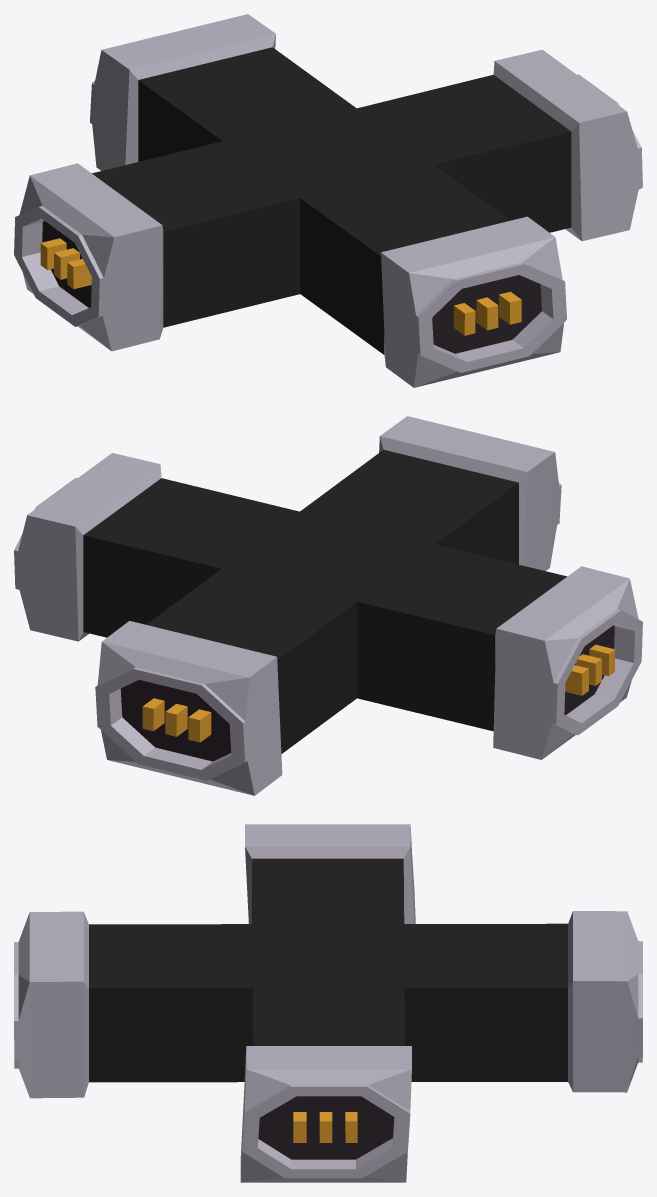
The model's file is cable +.fbx.
3 views of the same model, one above another, from view 1: azimuth 30°, elevation 25°; view 2: azimuth 150°, elevation 25°; view 3: azimuth 270°, elevation 25° (orthographic). The views are drawn at different scales.
Parts seen in each view (by area): view 1: Cable L.002; view 2: Cable L.002; view 3: Cable L.002.
Part boxes in pixels (x1,y1,x2,y2): Cable L.002: (14,14,642,387); Cable L.002: (14,416,642,795); Cable L.002: (14,824,642,1182).
Bounding box in the file's own units: 1.98 × 0.4081 × 2.04.
